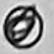correct: (3, 4, 46, 49)
